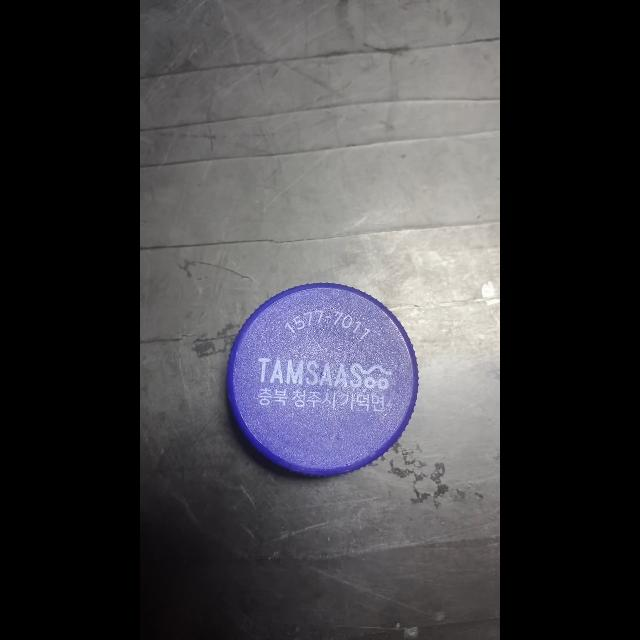plastic_bottle_cap: (225, 274, 419, 478)
